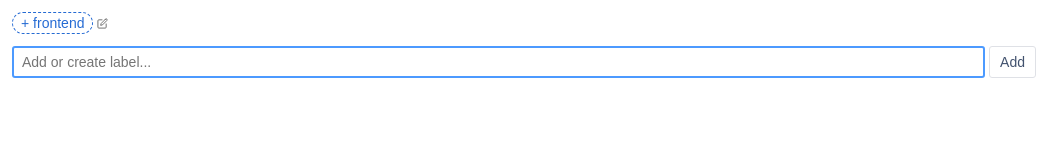
Scenario: LabelPicker inline edit › surfaces a server error (e.g. duplicate name) without crashing
The image size is (1048, 160).
Click the button named "edit label frontend" at (103, 23), box top-left (96, 16), bottom-right (110, 30)
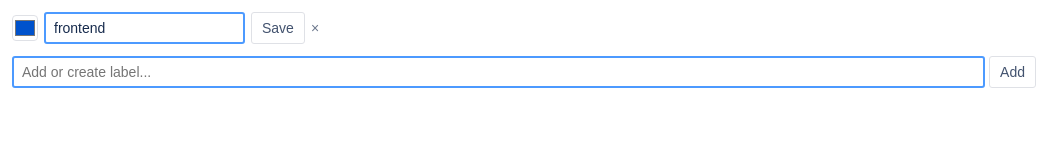
Replace the text in the field named "Label name" with "backend" at (144, 28), box top-left (44, 12), bottom-right (245, 44)
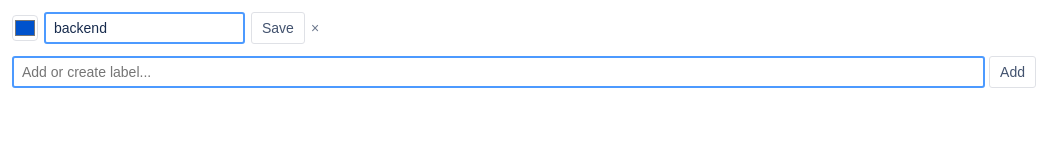
Click the button "Save" at (278, 28), box top-left (251, 12), bottom-right (305, 44)
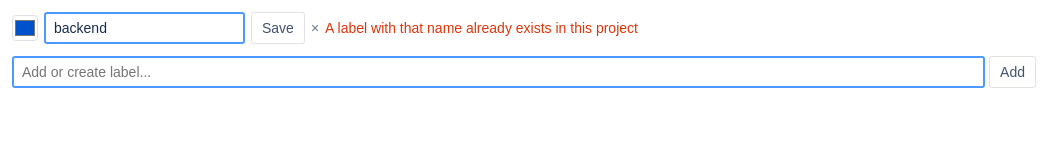
Result: the message shows "already exists" at top-left (325, 20), bottom-right (638, 36)
